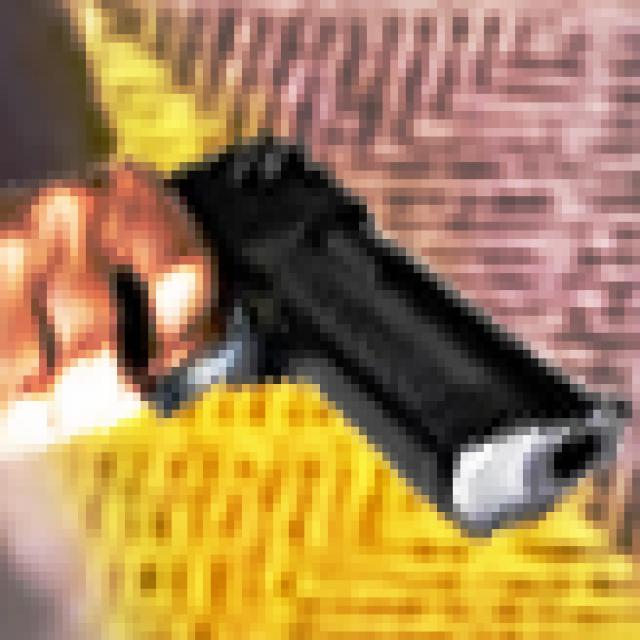arms: (0, 111, 624, 572)
